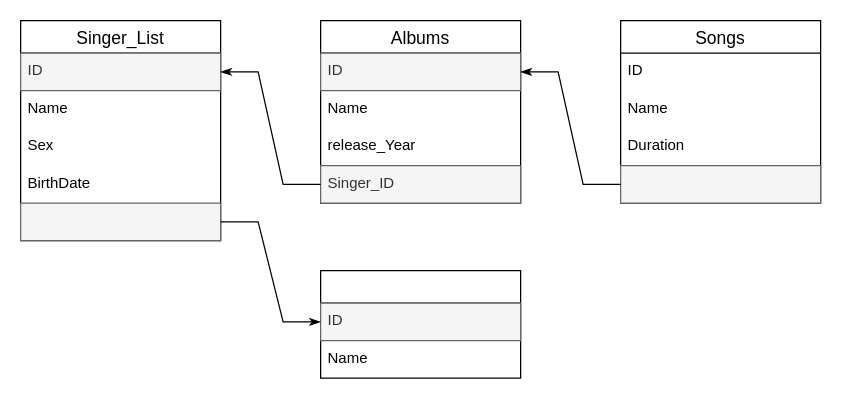
Some shapes in this 841 by 399 pixel diagram are drawn without their labels. The shapes that lost their labels are listed below. From the top down, each one's box as (x1, y1, x2, y2) in pixels, then its label:
(619, 164, 821, 203): Album_ID
(19, 202, 221, 241): Genre_ID
(319, 269, 521, 378): Genres
